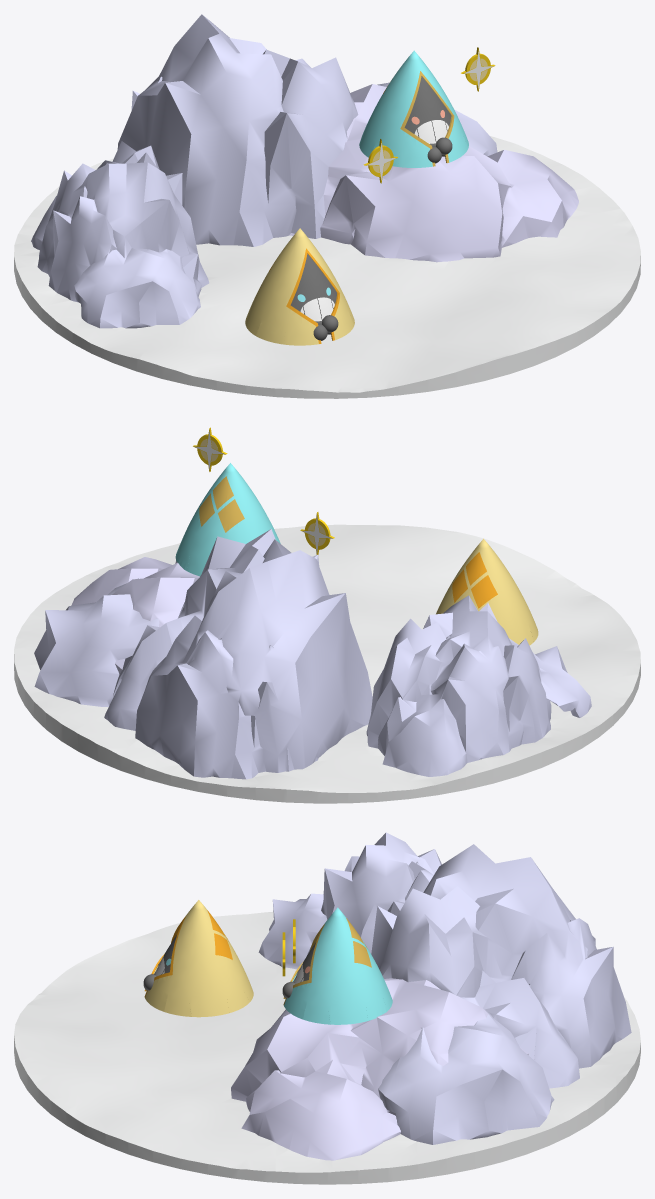
3 views of the same model, one above another, from view 1: azimuth 30°, elevation 25°; view 2: azimuth 150°, elevation 25°; view 3: azimuth 270°, elevation 25° (orthographic).
Parts seen in each view (by area): view 1: Object_3, Object_12, Object_4, Object_11, Object_2, Object_14, Object_8, Object_5, Object_6, Object_10; view 2: Object_12, Object_3, Object_4, Object_2, Object_11, Object_10, Object_6, Object_5; view 3: Object_12, Object_3, Object_4, Object_2, Object_11, Object_10, Object_6, Object_14.
Part boxes in pixels (box(x1,y1,x2,y2)): Object_3: box(14, 136, 640, 398); Object_12: box(31, 14, 497, 328); Object_4: box(289, 84, 578, 262); Object_11: box(245, 228, 354, 345); Object_2: box(359, 50, 468, 167); Object_14: box(290, 76, 452, 340); Object_8: box(300, 51, 492, 321); Object_5: box(363, 47, 495, 183); Object_6: box(383, 71, 454, 166); Object_10: box(269, 248, 339, 343); Object_12: box(34, 529, 591, 779); Object_3: box(14, 524, 640, 803); Object_4: box(71, 557, 199, 674); Object_2: box(175, 463, 280, 576); Object_11: box(436, 538, 538, 645); Object_10: box(452, 552, 497, 608); Object_6: box(199, 476, 244, 532); Object_5: box(193, 427, 334, 554); Object_12: box(258, 832, 631, 1144); Object_3: box(14, 912, 640, 1184); Object_4: box(231, 978, 528, 1160); Object_2: box(284, 907, 392, 1024); Object_11: box(145, 900, 253, 1017); Object_10: box(144, 910, 232, 997); Object_6: box(283, 918, 371, 1005); Object_14: box(143, 935, 315, 998).
Size of the model in its own units: 180 by 63 by 180.
